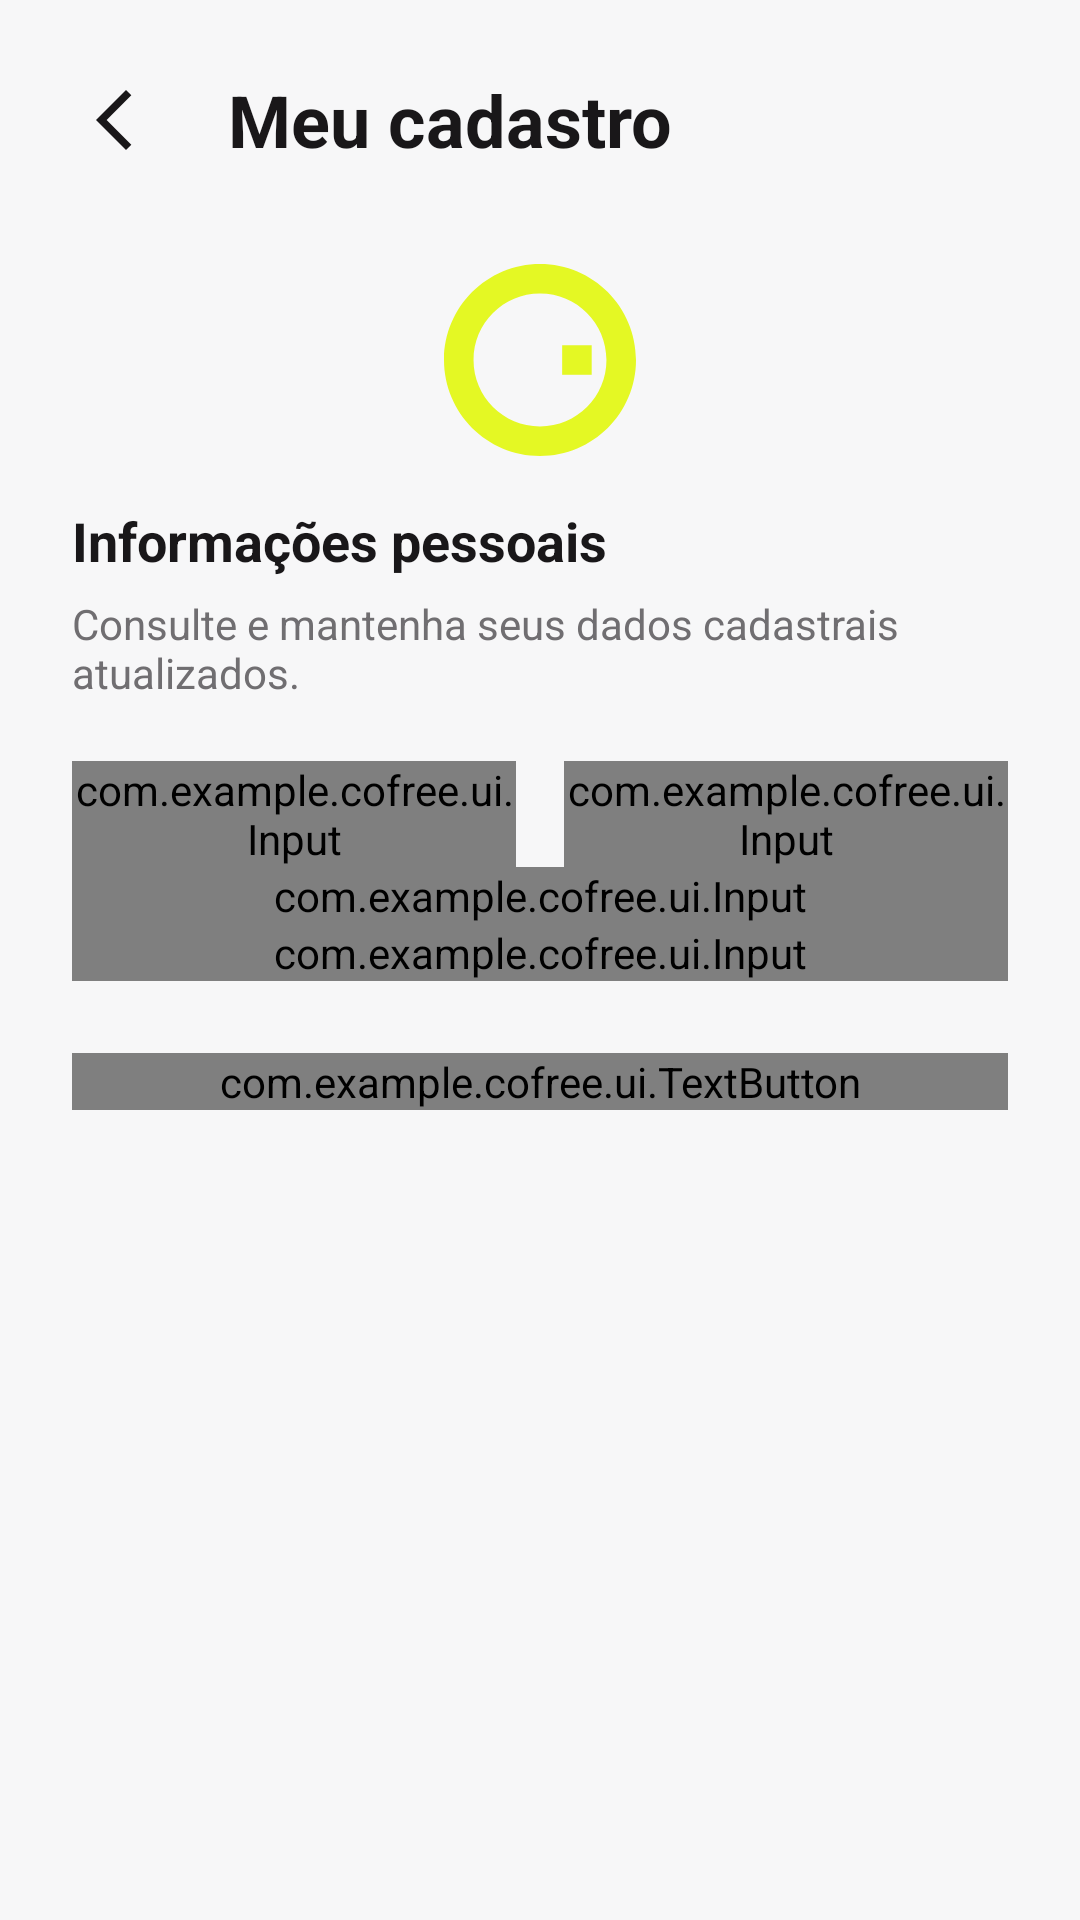

Named icons in this screenshot (1080 x 1920) and their bounding boxes, (x1, y1, x2, y2):
Voltar: (96, 90, 131, 150)
